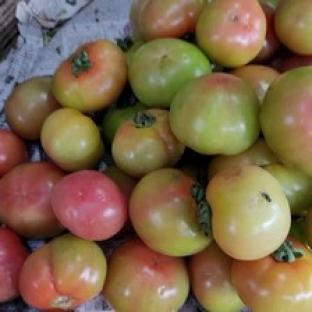Tomato: (207, 165, 291, 260), (170, 73, 260, 154), (129, 168, 211, 256), (19, 233, 107, 310), (102, 239, 189, 311), (232, 237, 311, 311), (129, 38, 211, 108), (52, 39, 128, 112), (260, 67, 311, 175), (51, 170, 128, 240), (112, 108, 185, 178), (0, 161, 64, 238), (41, 108, 104, 171), (189, 241, 245, 311), (5, 77, 59, 140), (208, 137, 278, 178), (101, 85, 147, 144), (104, 162, 137, 235), (265, 163, 311, 215), (0, 226, 29, 303), (230, 65, 279, 104), (253, 2, 281, 64), (0, 129, 29, 176), (279, 55, 311, 72), (304, 209, 311, 249)
